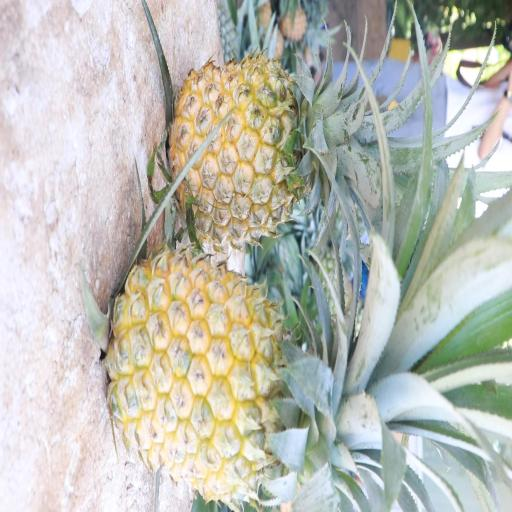Pineapple - v8 v1: (102, 249, 388, 500), (162, 50, 362, 257), (216, 154, 226, 158), (223, 112, 232, 112)
